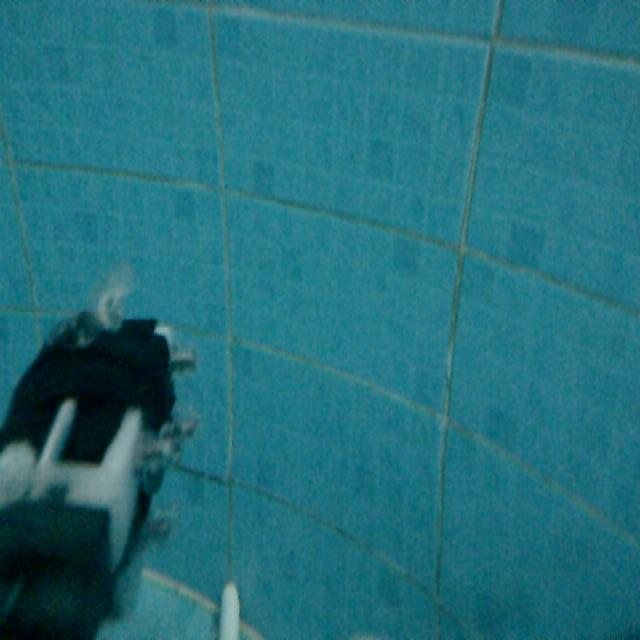Cube: (212, 576, 247, 640)
